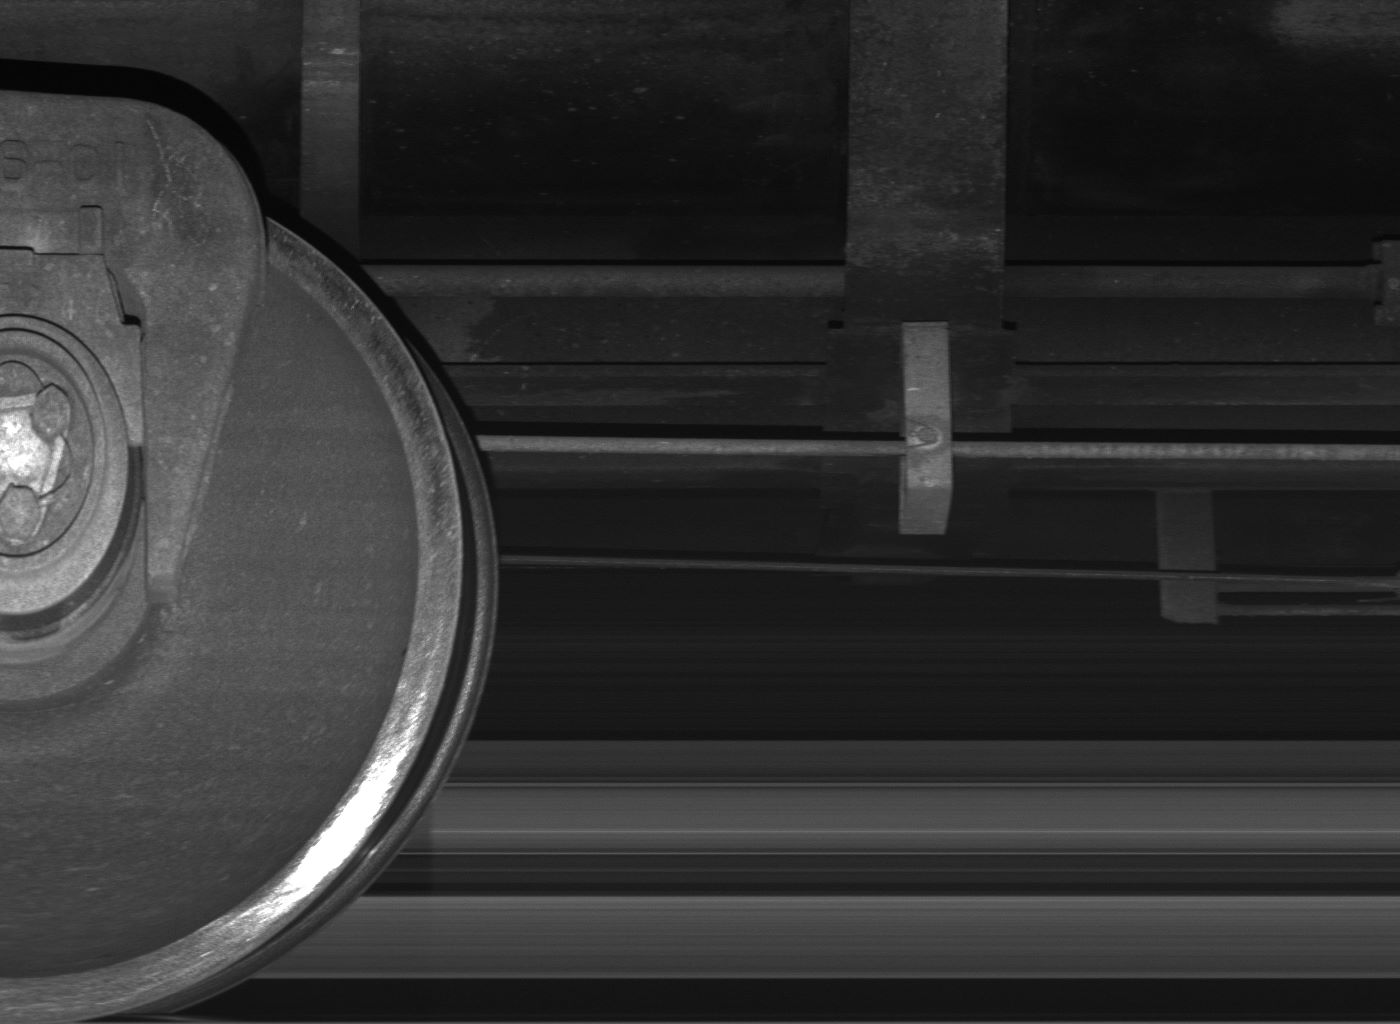Upper lever: (1158, 490, 1221, 624)
normal: (898, 321, 952, 534)
